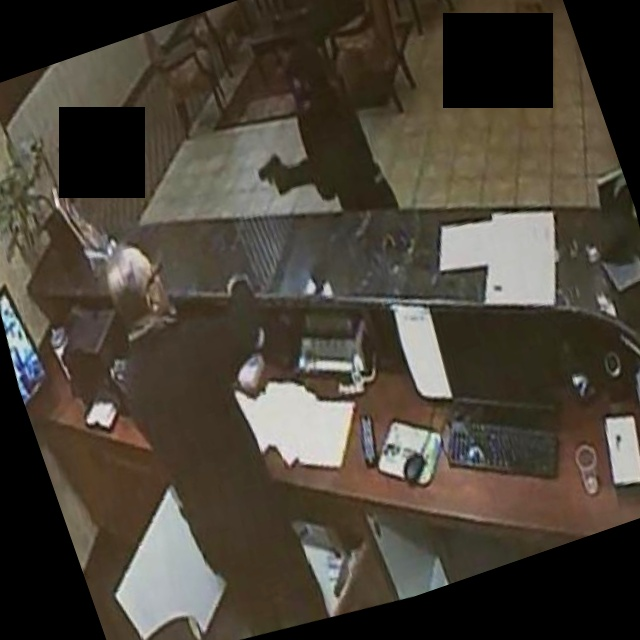gun: (245, 146, 302, 210)
